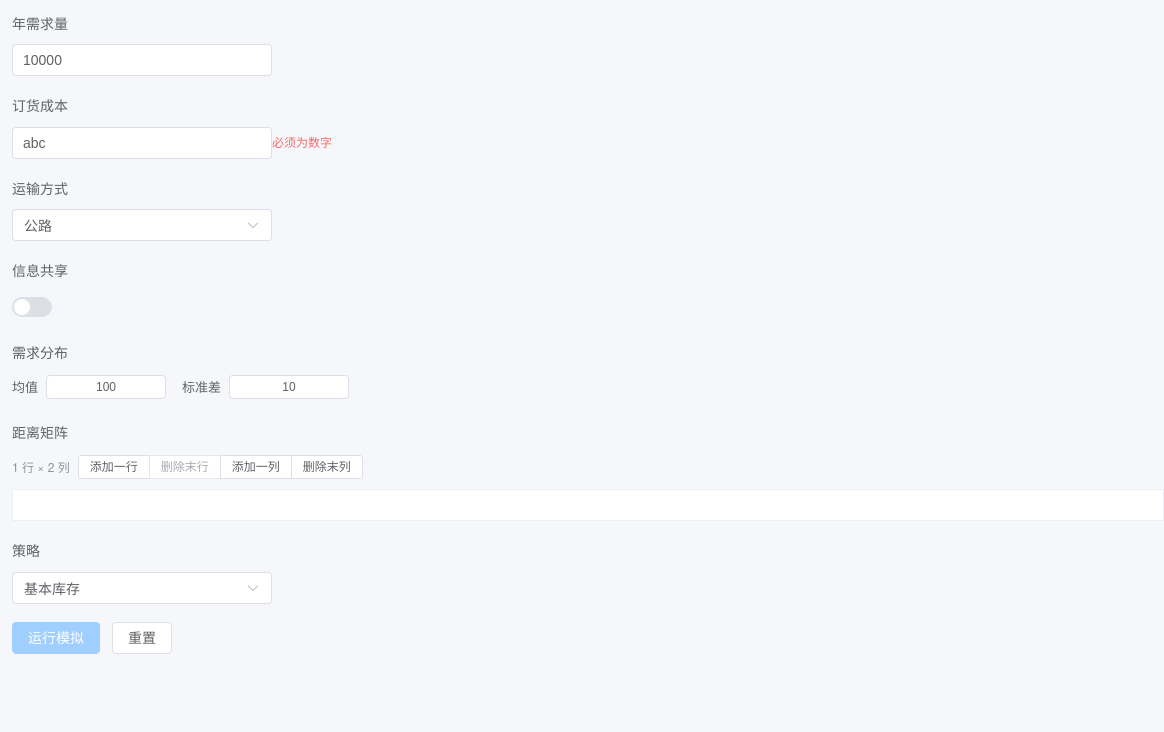
Test case: ParamPanel › 非数字/空值：即时红字提示且不可提交
Expected: the text with test id "param-error-order_cost" reads "必须为数字", [272,134,332,150]
Clear the field labelled "订货成本" at (142, 143), box [23,128,261,158]
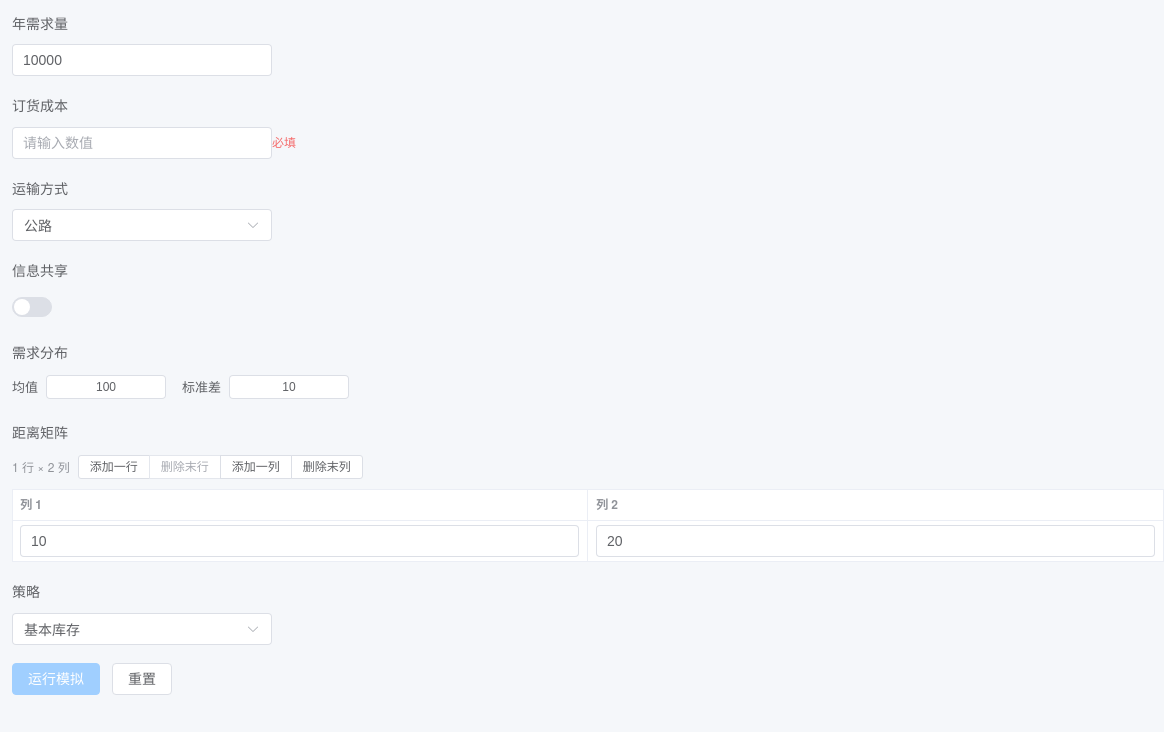
Expected: the button with test id "run-submit" is disabled, [12,663,100,695]
Expected: the text with test id "param-error-order_cost" reads "必填", [272,134,296,150]
